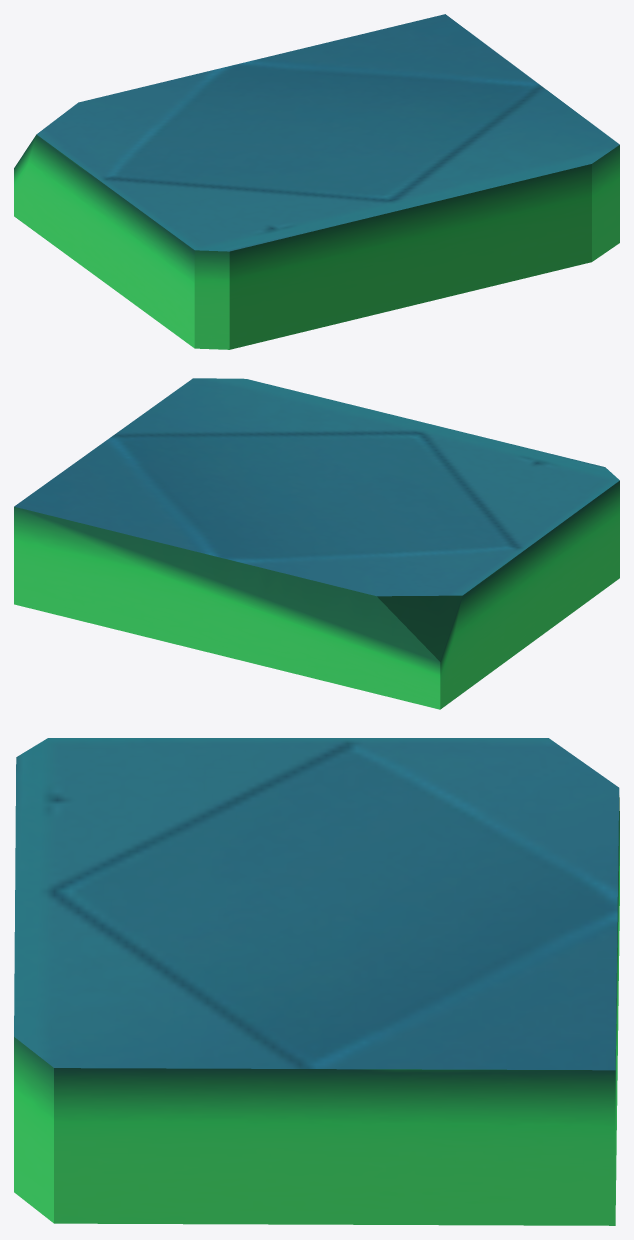
3 views of the same model, one above another, from view 1: azimuth 30°, elevation 25°; view 2: azimuth 150°, elevation 25°; view 3: azimuth 270°, elevation 25° (orthographic). The views are drawn at different scales.
Parts seen in each view (by area): view 1: DB_B; view 2: DB_B; view 3: DB_B.
Boxes of the visible parts, left/top/right/bottom form: DB_B: left=14, top=14, right=619, bottom=349; DB_B: left=14, top=378, right=619, bottom=709; DB_B: left=14, top=738, right=619, bottom=1225.
Size of the model in its own units: 0.3277 by 0.0716 by 0.2527.
1 material, 1 textured.
